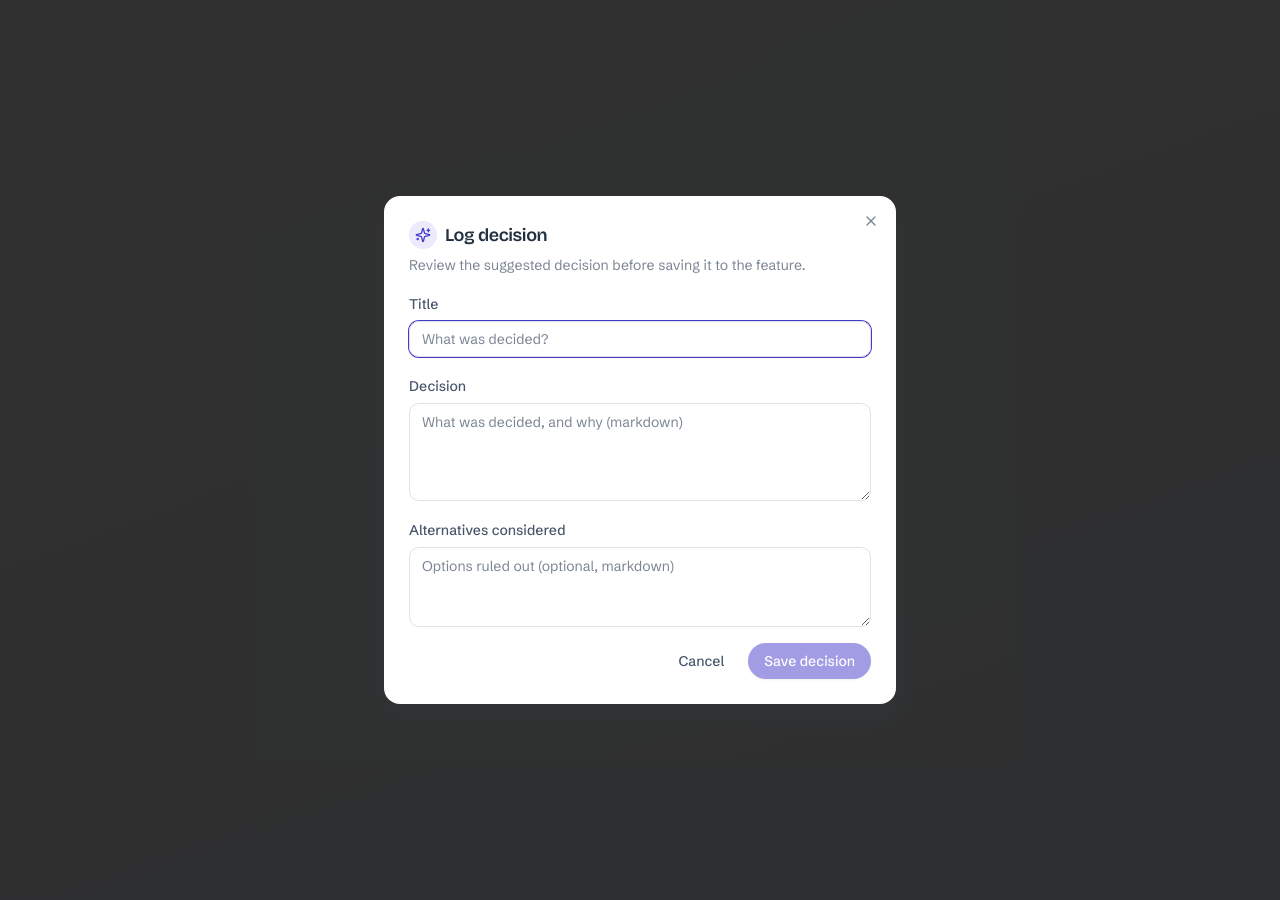
Test: DecisionDialog › disables save until title and decision are filled
expect the button "Save decision" is disabled: met, box [748,643,871,679]
Type "T" into the field labelled "Title".
click(640, 339); type("T")  # box [409,321,871,357]
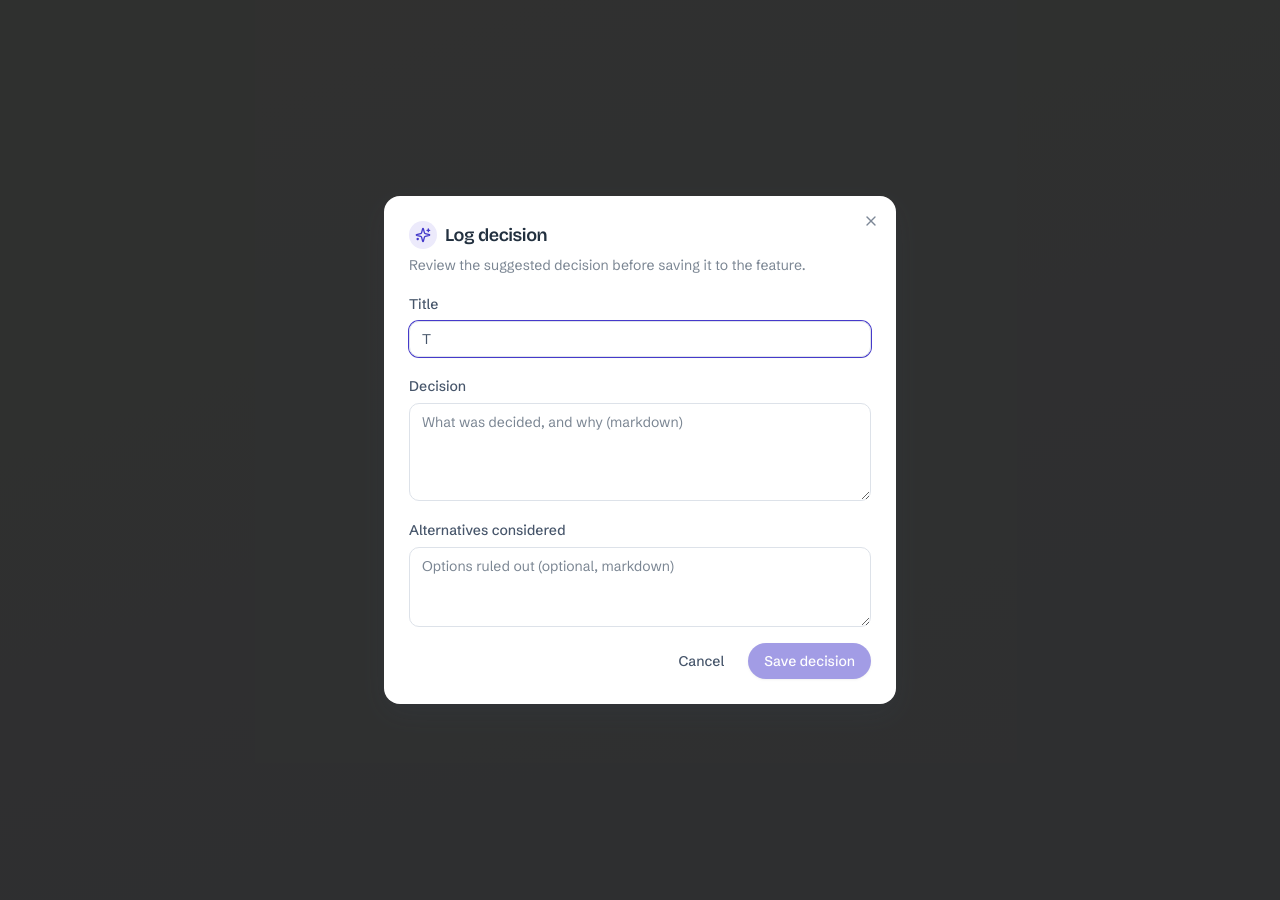
expect the button "Save decision" is disabled: met, box [748,643,871,679]
Type "D" into the text box labelled "Decision".
click(640, 452); type("D")  # box [409,403,871,501]
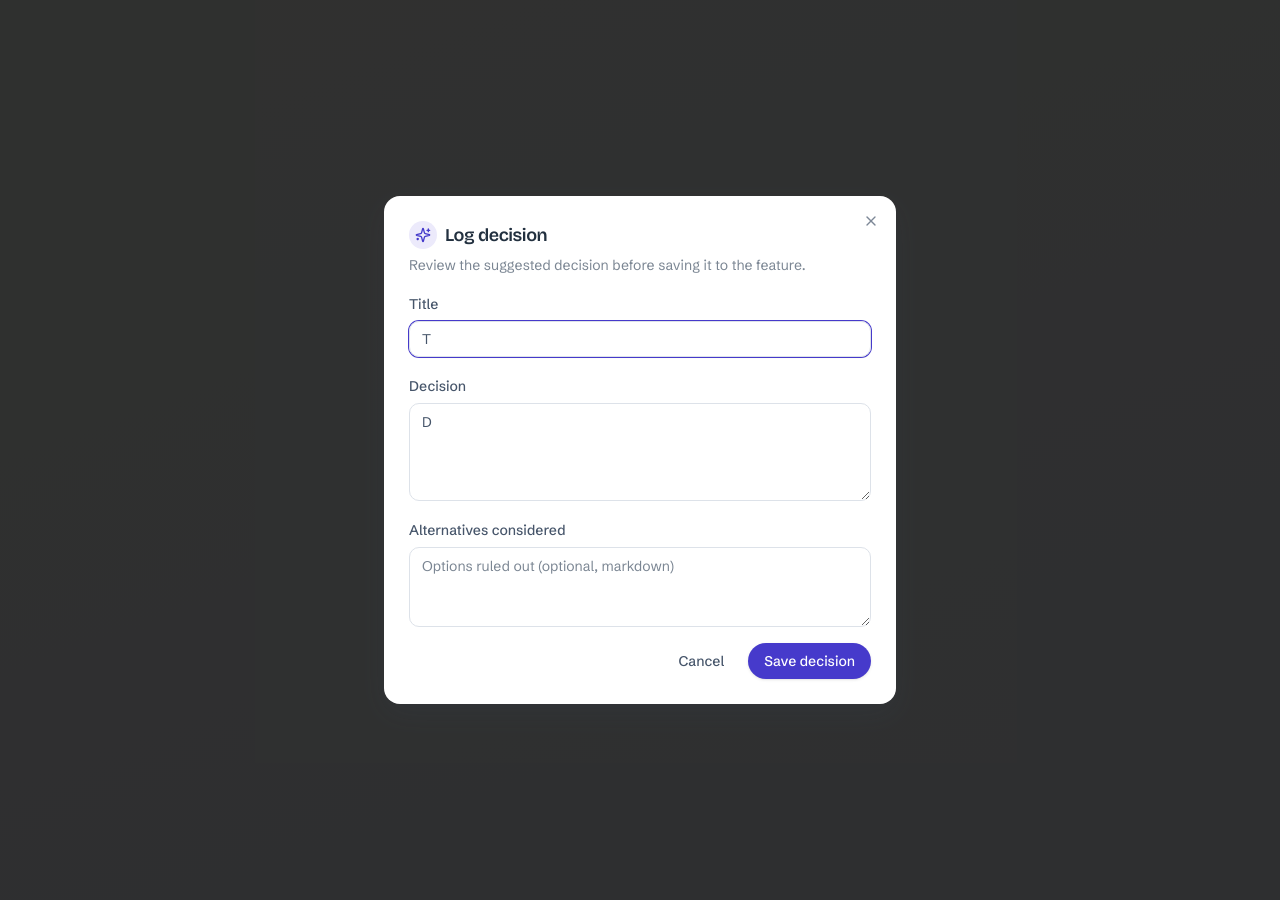
expect the button "Save decision" is enabled: met, box [748,643,871,679]
